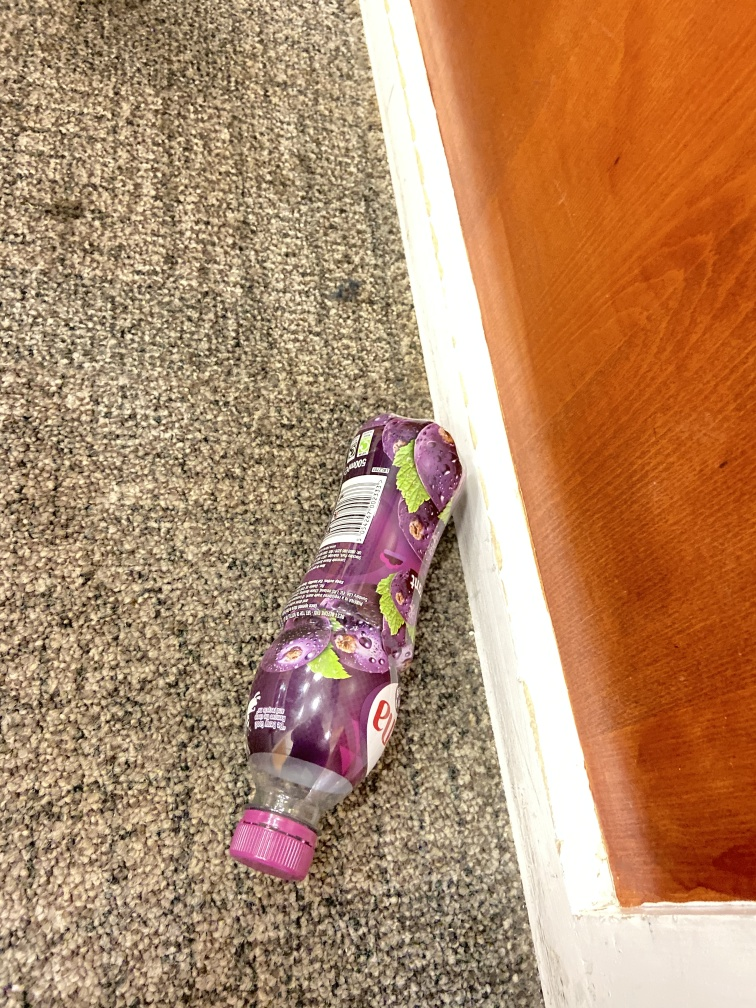bottle_purple: (225, 406, 477, 884)
